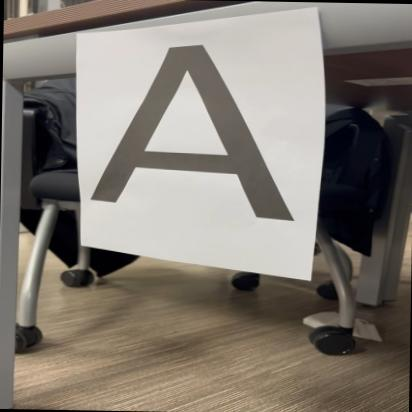seat: (90, 42, 300, 224)
